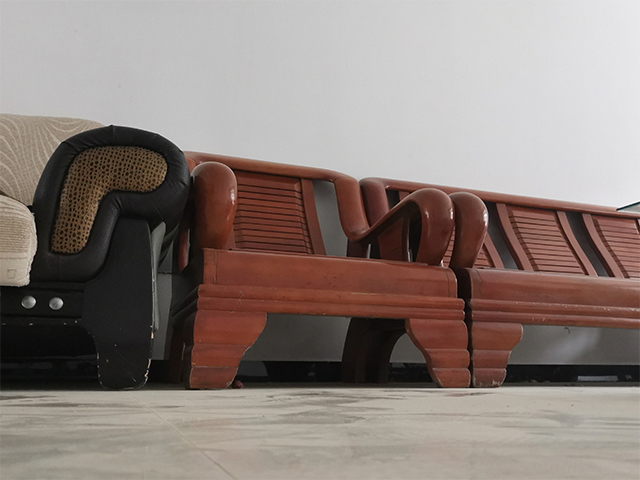sofa: (1, 112, 191, 392)
stool: (187, 141, 473, 391), (364, 170, 640, 388)
